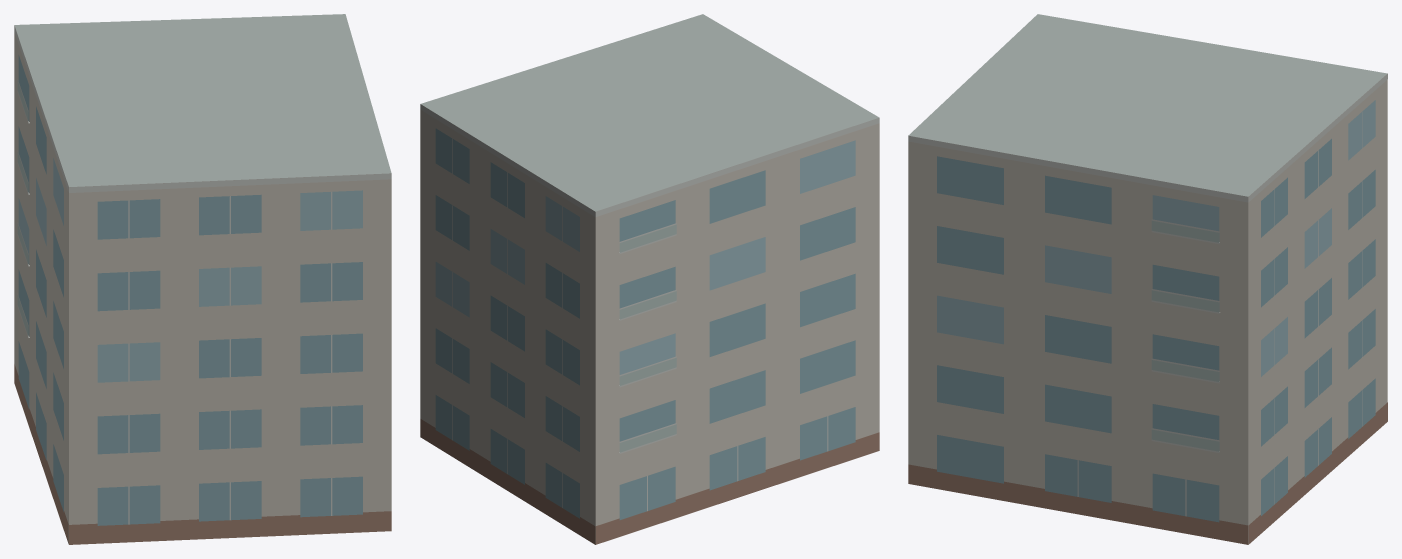
The model's file is survey-upis-32656197.glb.
3 renders of one model, left to right at view 1: azimuth 30°, elevation 25°; view 2: azimuth 150°, elevation 25°; view 3: azimuth 270°, elevation 25°, orthographic. The views are drawn at different scales.
Parts seen in each view (by area): view 1: survey-upis-32656197.tmp; view 2: survey-upis-32656197.tmp; view 3: survey-upis-32656197.tmp.
Boxes of the visible parts, x1=… form: survey-upis-32656197.tmp: x1=14, y1=14, x2=391, y2=544; survey-upis-32656197.tmp: x1=420, y1=14, x2=879, y2=544; survey-upis-32656197.tmp: x1=908, y1=14, x2=1387, y2=544.
Bounding box in the file's own units: 16.45 × 14.6 × 18.24.
